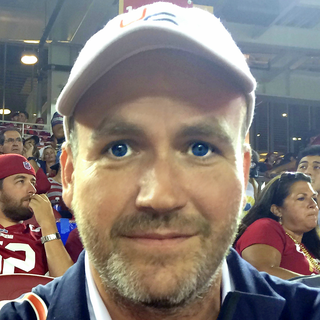eye: (177, 136, 225, 162), (96, 136, 139, 161)
